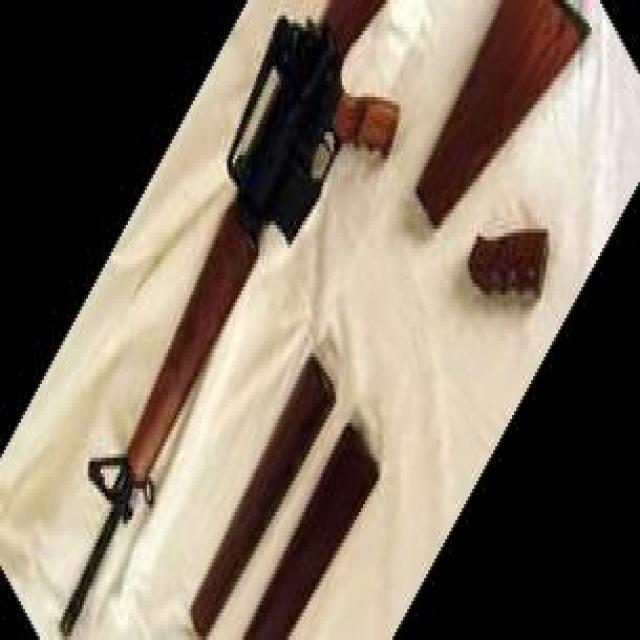weapon: (59, 0, 402, 639)
